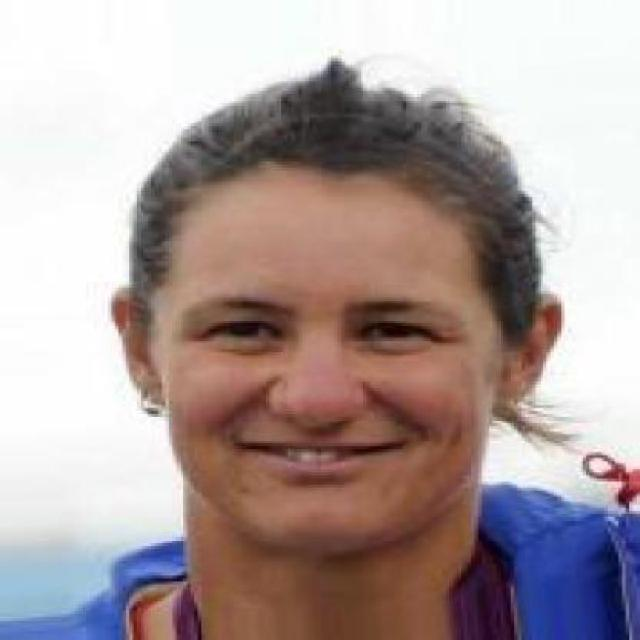closed-mouth: (226, 435, 412, 488)
